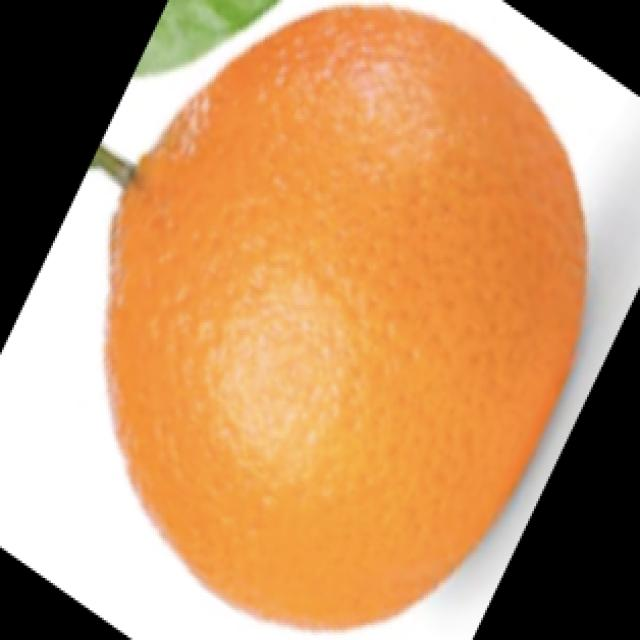matang: (108, 5, 580, 617)
